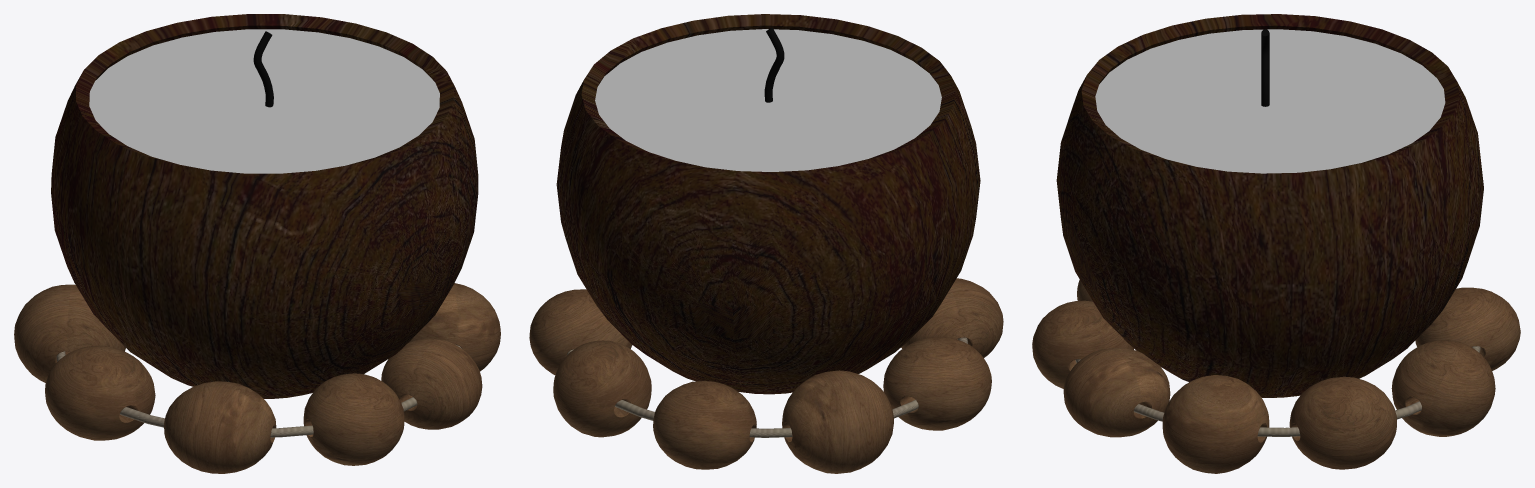
Rendered from candle-16.obj.
The picture shows the model from 3 angles, left to right: view 1: azimuth 30°, elevation 25°; view 2: azimuth 150°, elevation 25°; view 3: azimuth 270°, elevation 25°; orthographic projection.
Visible parts, largest first — view 1: Candle_008; view 2: Candle_008; view 3: Candle_008.
Boxes of the visible parts, box(x1,y1,x2,y2) form: Candle_008: box(14, 14, 500, 473); Candle_008: box(529, 14, 1003, 473); Candle_008: box(1032, 14, 1520, 473).
Size of the model in its own units: 12.48 by 10.53 by 12.76.
Materials: 5 (3 with a texture image).
